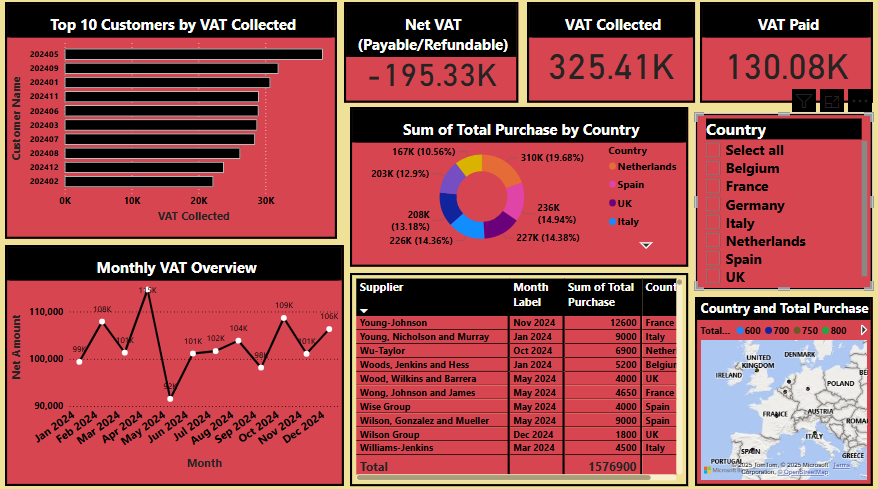

What the dashboard file says about the page in this screenshot:
{"tool":"powerbi","page":{"name":"Page 1","canvas":[1280,720],"ordinal":0},"visuals":[{"type":"card","title":"VAT Collected","fields":{"Values":["Purchases.Total VAT"]},"box":[764.6,10.1,241.9,145.4],"z":0},{"type":"card","title":"VAT Paid","fields":{"Values":["Sales.Total VAT"]},"box":[1013.8,10.1,249.1,145.4],"z":1000},{"type":"card","title":"Net VAT (Payable/Refundable)","fields":{"Values":["Purchases.Net VAT"]},"box":[501.1,10.1,250.6,145.4],"z":2000},{"type":"lineChart","title":"Monthly VAT Overview","fields":{"Category":["Purchases.Month Label"],"Y":["Purchases.Net VAT"]},"box":[13,360,488.2,347],"z":2001},{"type":"slicer","fields":{"Values":["Purchases.Country"]},"box":[1006.6,169.9,256.3,254.9],"z":2002},{"type":"barChart","title":"Top 10 Customers by VAT Collected","fields":{"Category":["Purchases.Custom"],"Y":["Purchases.Total VAT"]},"box":[13,10.1,478.1,341.3],"z":2003},{"type":"donutChart","fields":{"Category":["Purchases.Country"],"Y":["Purchases.Total Purchase"]},"box":[509.8,161.3,486.7,230.4],"z":2004},{"type":"tableEx","fields":{"Values":["Purchases.Supplier","Purchases.Month Label","Purchases.Total Purchase","Purchases.Country"]},"box":[509.8,400.3,486.7,306.7],"z":2005},{"type":"map","fields":{"Category":["Purchases.Country"],"Series":["Purchases.Total Purchase"]},"box":[1006.6,434.9,256.3,272.2],"z":2006}]}

Visuals, with their boxes in screenshot pixels (x1, y1, x2, y2), scaled from the page's 1280x720 canvas onto the 878x489 screenshot:
"VAT Collected" card: <bbox>524, 7, 690, 106</bbox>
"VAT Paid" card: <bbox>695, 7, 866, 106</bbox>
"Net VAT (Payable/Refundable)" card: <bbox>344, 7, 516, 106</bbox>
"Monthly VAT Overview" lineChart: <bbox>9, 244, 344, 480</bbox>
slicer - Purchases.Country: <bbox>690, 115, 866, 289</bbox>
"Top 10 Customers by VAT Collected" barChart: <bbox>9, 7, 337, 239</bbox>
donutChart - Purchases.Country x Purchases.Total Purchase: <bbox>350, 110, 684, 266</bbox>
tableEx - Purchases.Supplier x Purchases.Month Label: <bbox>350, 272, 684, 480</bbox>
map - Purchases.Country x Purchases.Total Purchase: <bbox>690, 295, 866, 480</bbox>
